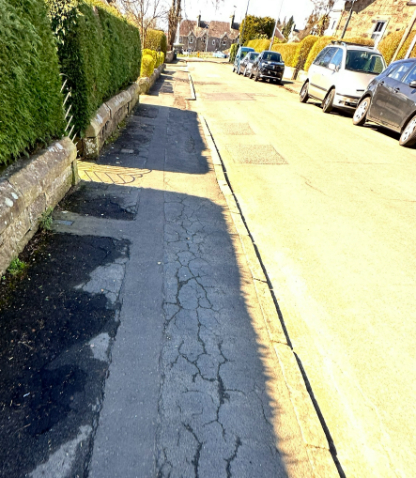car: (303, 36, 377, 120), (366, 52, 416, 149), (252, 51, 287, 86), (230, 46, 253, 70), (240, 51, 261, 76)
